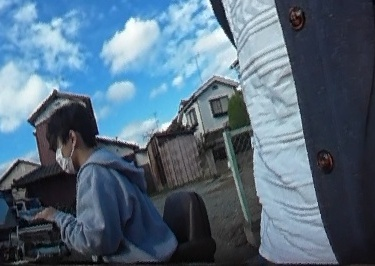person: (45, 101, 162, 258)
